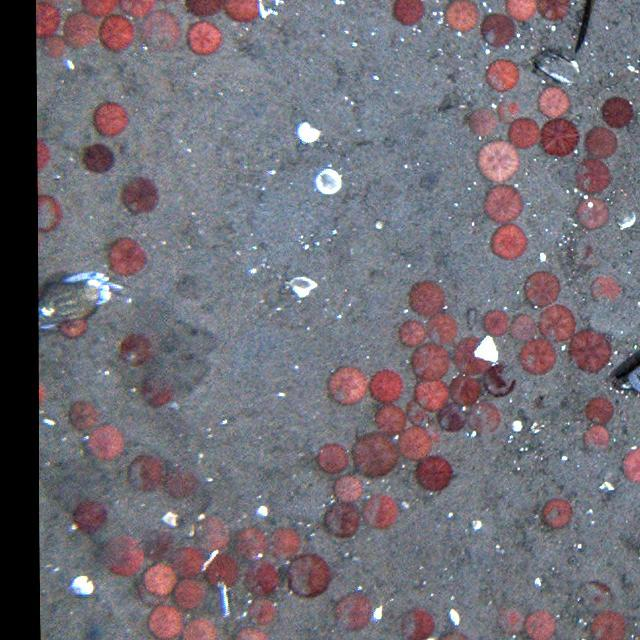whelk: (41, 283, 101, 323)
